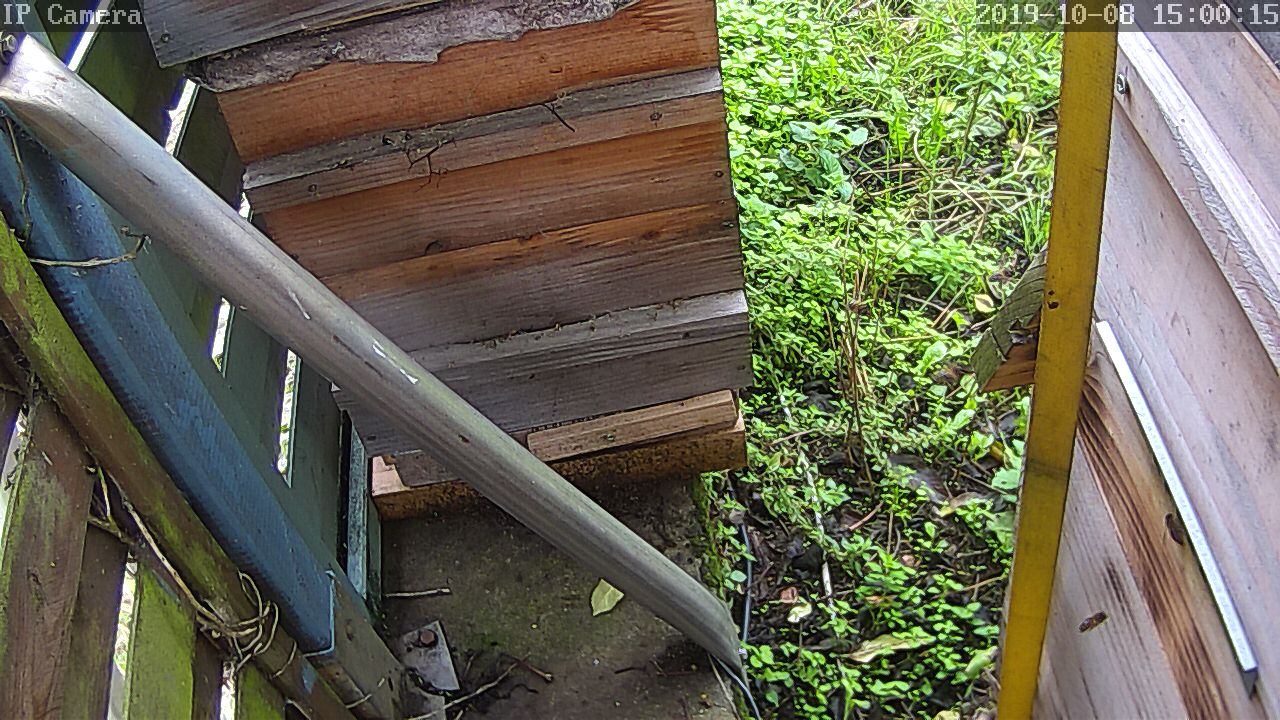bee: (1157, 509, 1193, 551), (1073, 607, 1116, 639)
